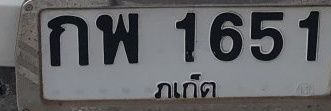txt01: (46, 14, 90, 68)
txt25: (94, 12, 140, 67)
